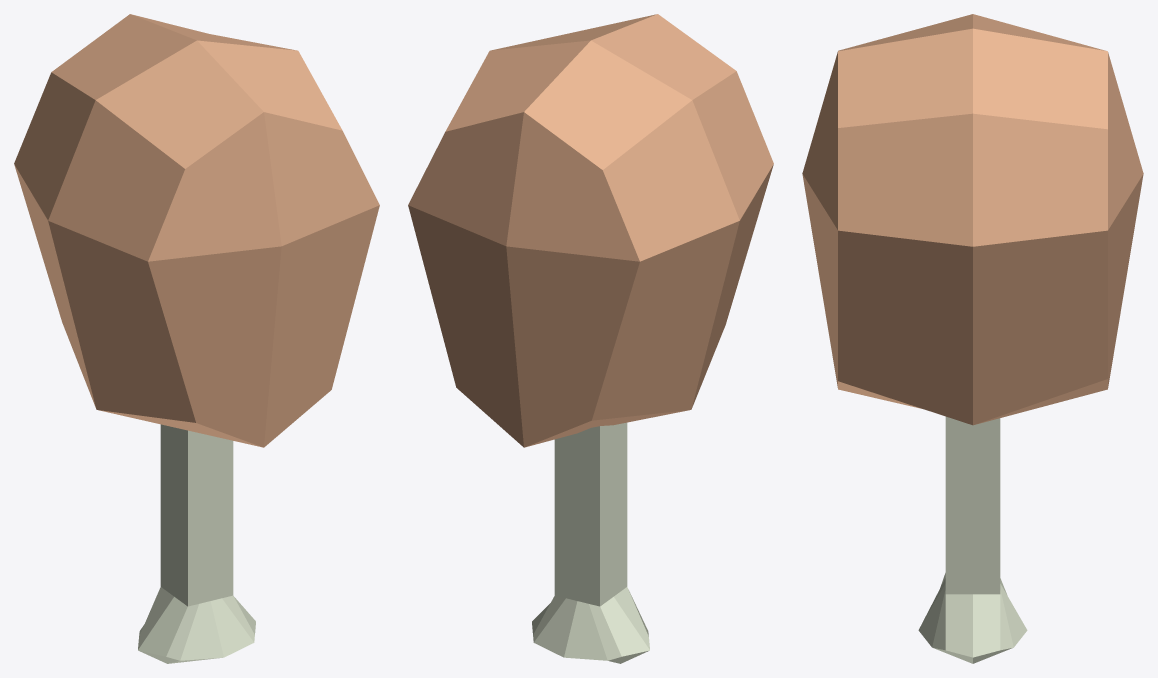
Rendered from Pollo.fbx.
3 views of the same model, side by side, from view 1: azimuth 30°, elevation 25°; view 2: azimuth 150°, elevation 25°; view 3: azimuth 270°, elevation 25° (orthographic).
Visible parts, largest first — view 1: Cube; view 2: Cube; view 3: Cube.
Part boxes in pixels (x1=…): Cube: x1=14, y1=14, x2=379, y2=663; Cube: x1=408, y1=14, x2=773, y2=663; Cube: x1=802, y1=14, x2=1143, y2=663.
Size of the model in its own units: 257 by 508 by 253.
